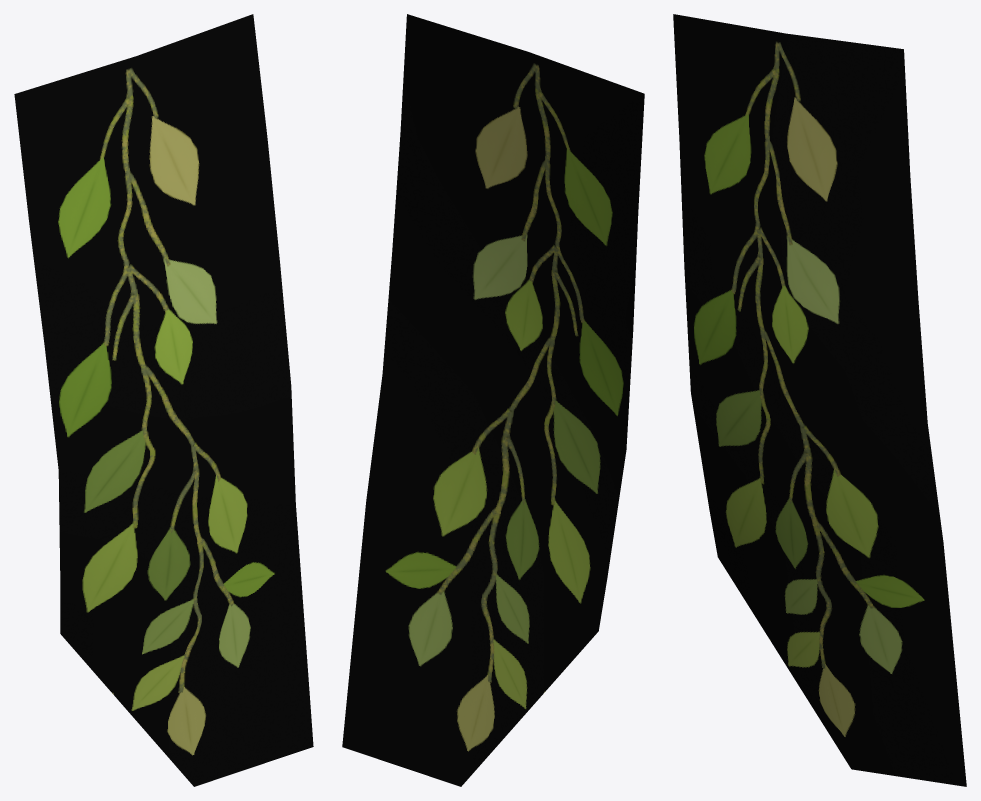
Rendered from Ivy_1_2.fbx.
3 views of the same model, side by side, from view 1: azimuth 30°, elevation 25°; view 2: azimuth 150°, elevation 25°; view 3: azimuth 330°, elevation 25° (orthographic). The views are drawn at different scales.
Visible parts, largest first — view 1: Ivy.002; view 2: Ivy.002; view 3: Ivy.002.
Part boxes in pixels (left/top/right/bottom): Ivy.002: left=14, top=14, right=313, bottom=786; Ivy.002: left=342, top=14, right=644, bottom=786; Ivy.002: left=673, top=14, right=966, bottom=786.
Size of the model in its own units: 39.64 by 95.58 by 5.86.
